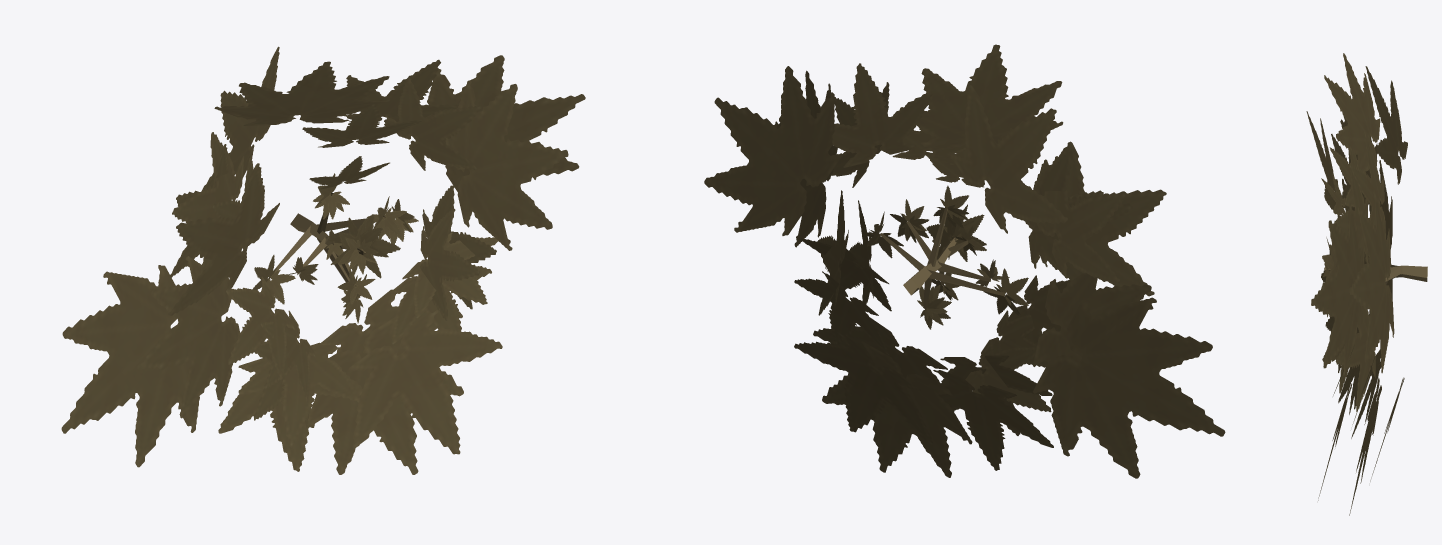
The model's file is p_tree_vegetative_c4_cards.obj.
The picture shows the model from 3 angles, left to right: view 1: azimuth 30°, elevation 25°; view 2: azimuth 150°, elevation 25°; view 3: azimuth 270°, elevation 25°; orthographic projection. The views are drawn at different scales.
Size of the model in its own units: 1.56 by 1.25 by 0.311.
Materials: 1 (1 with a texture image).
